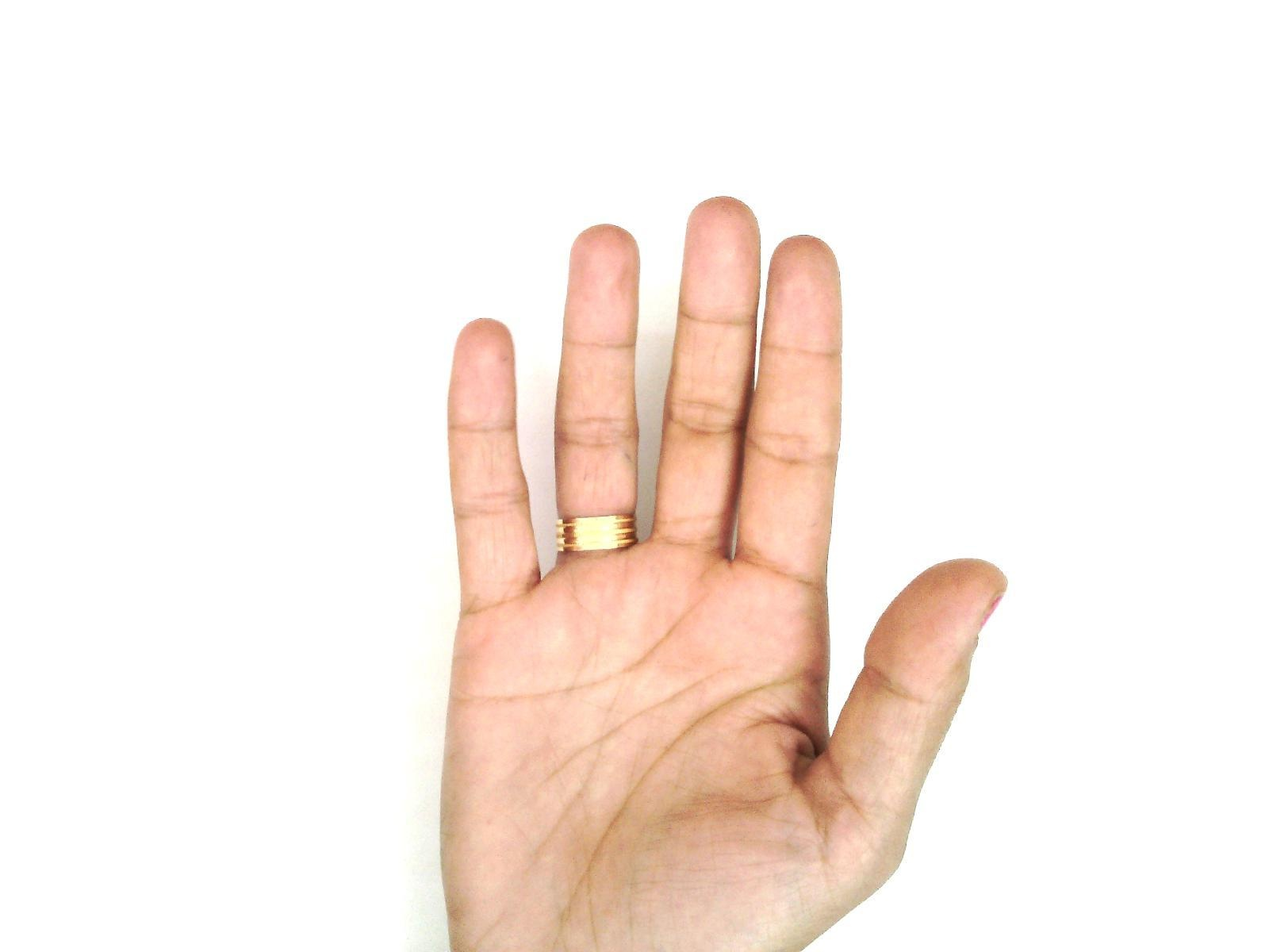open_palm: (435, 195, 1010, 952)
